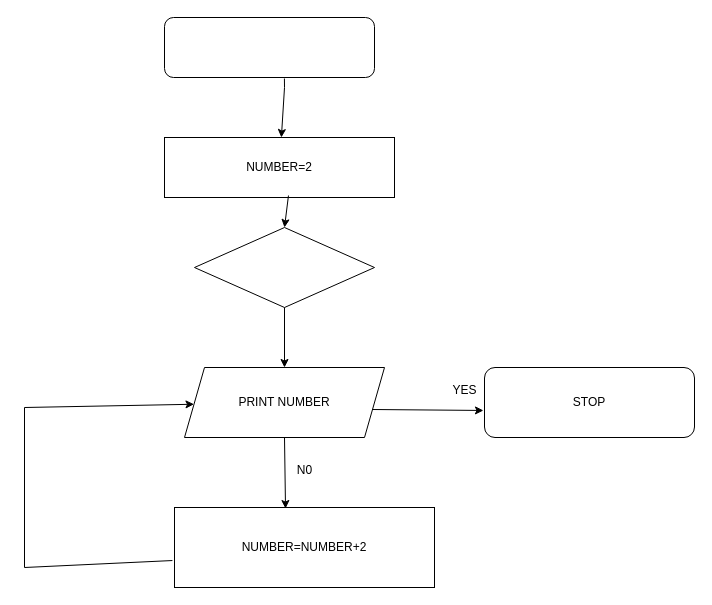
Some shapes in this 712 by 605 pixel diagram are drawn without their labels. The shapes that lost their labels are listed below. From the top down, each one's centre as x and y in pixels, then its label:
point 269,47: START
point 284,267: IS NUMER>20?
